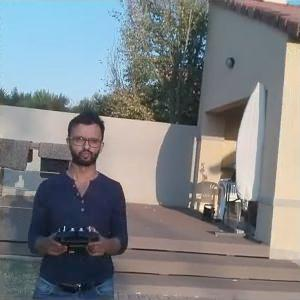follow: (21, 100, 134, 298)
